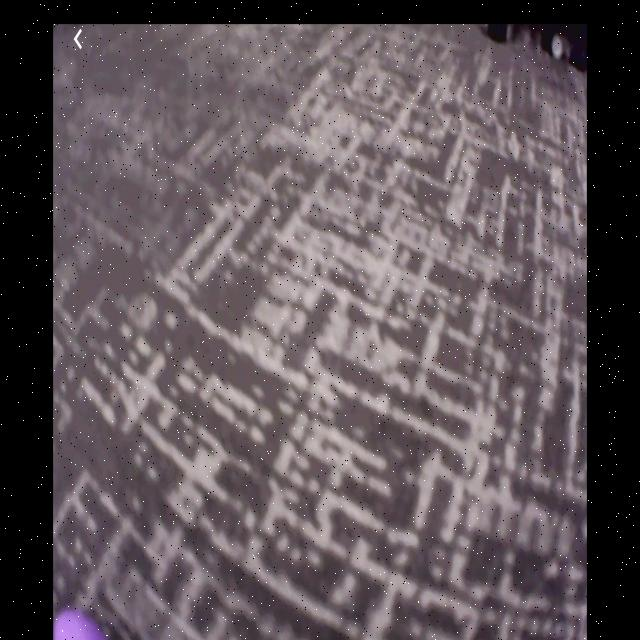ball: (54, 612, 107, 640)
